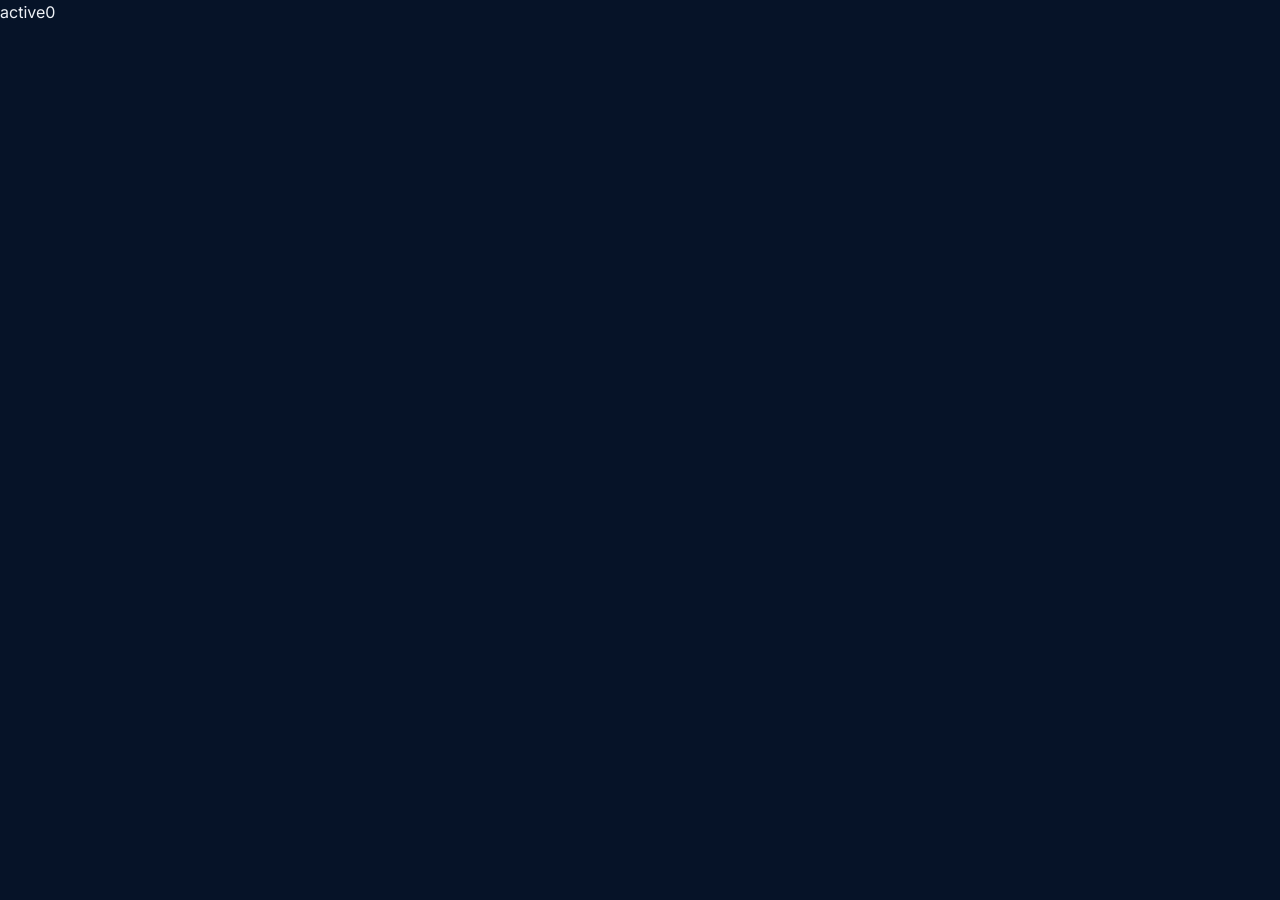
Test: idle timer › input before the deadline postpones the dialog
Later steps or results of the test are not shown.
Press the mouse on the element showing "active0" at coordinates (640, 12), box 0,0 -> 1279,25
Wait 240000 ms
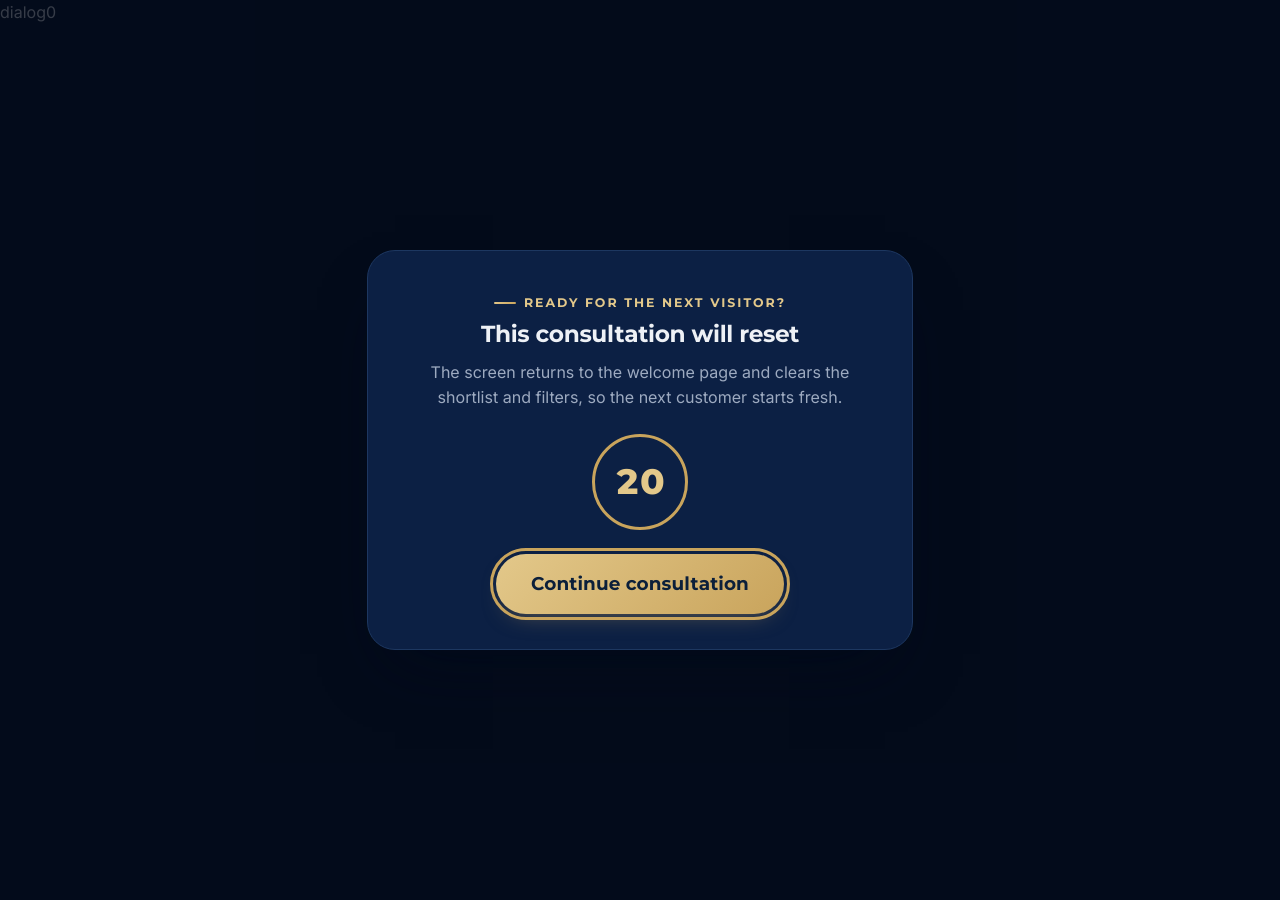
Result: the text with test id "phase" reads "dialog" at 0,2 -> 46,22
